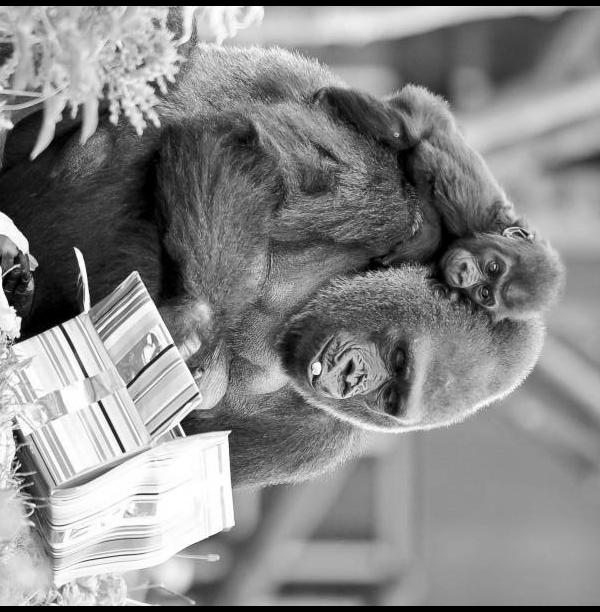gorille_Autres: (188, 54, 574, 529), (389, 66, 577, 323)
